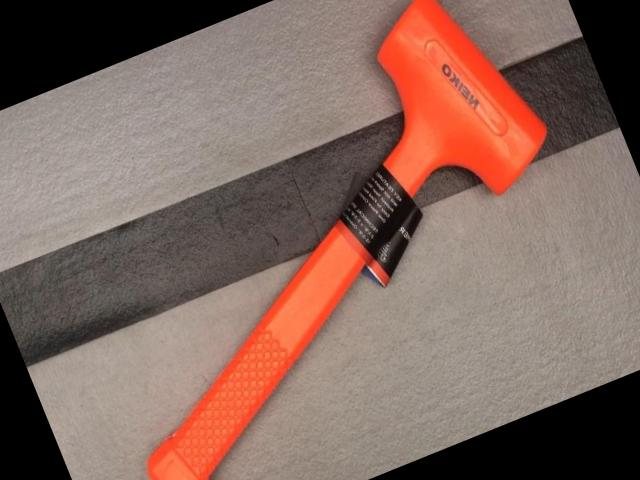hammer: (18, 0, 628, 480)
